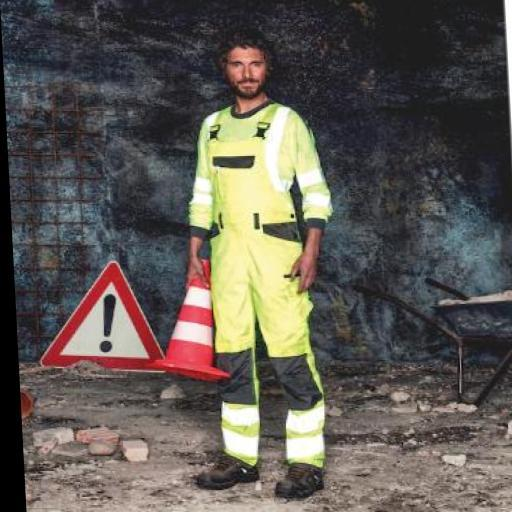safety_boots: (196, 452, 258, 495), (264, 461, 325, 502)
